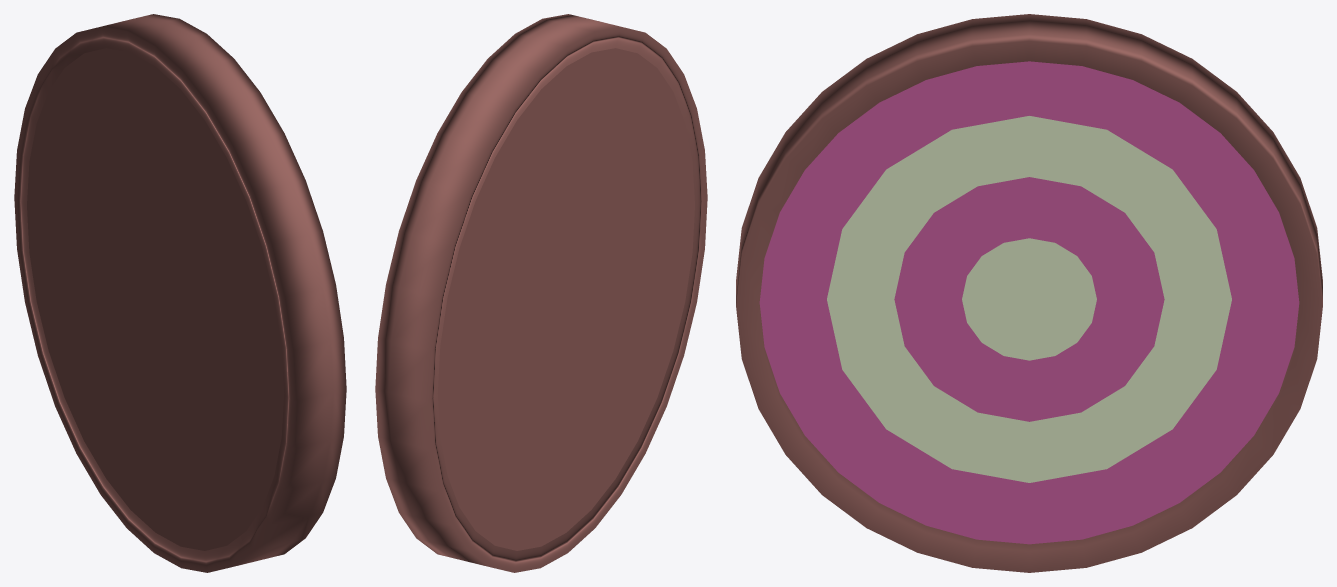
The model's file is target.fbx.
3 views of the same model, side by side, from view 1: azimuth 30°, elevation 25°; view 2: azimuth 150°, elevation 25°; view 3: azimuth 270°, elevation 25° (orthographic). The views are drawn at different scales.
Parts seen in each view (by area): view 1: Cylinder; view 2: Cylinder; view 3: Cylinder.
Part boxes in pixels (x1,y1,x2,y2): Cylinder: [14, 14, 346, 572]; Cylinder: [375, 14, 707, 572]; Cylinder: [736, 14, 1322, 572].
Size of the model in its own units: 23.8 by 217 by 217.
